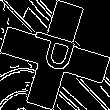P_E: (26, 30, 84, 80)
